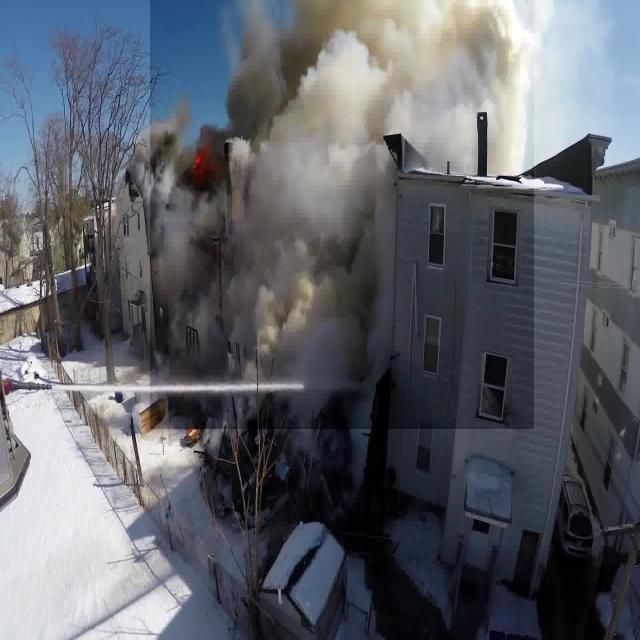Fire: (189, 136, 219, 186)
Smoke: (150, 0, 534, 429)
